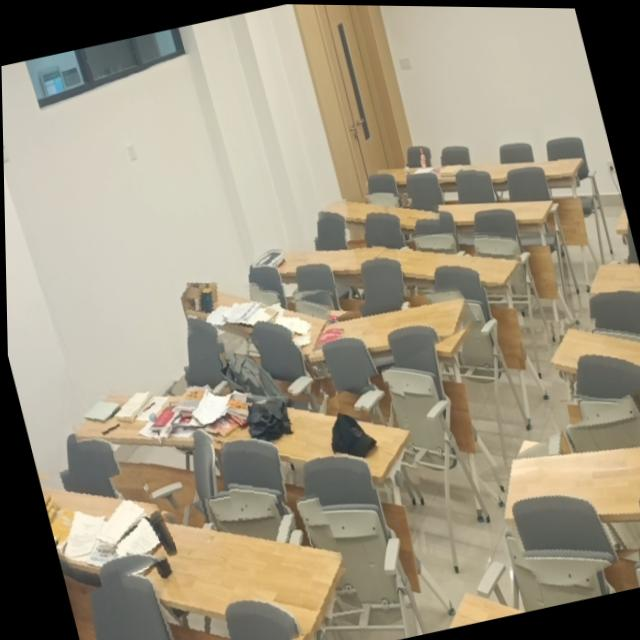Non-empty: (119, 516, 337, 631), (217, 402, 409, 488), (38, 484, 152, 573), (303, 298, 464, 360), (74, 386, 246, 440), (186, 282, 329, 344), (253, 247, 382, 276), (370, 162, 472, 183)
empty: (501, 444, 640, 518), (548, 318, 640, 387), (374, 243, 519, 283), (316, 198, 437, 232), (478, 155, 580, 177), (589, 262, 640, 294)
